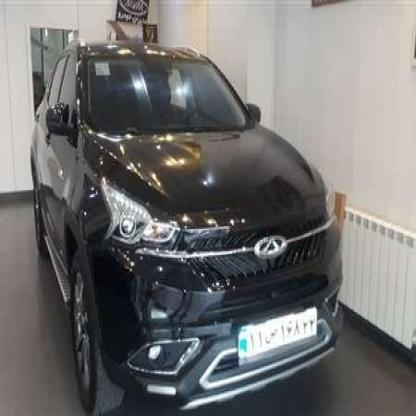Car: (31, 37, 342, 416)
